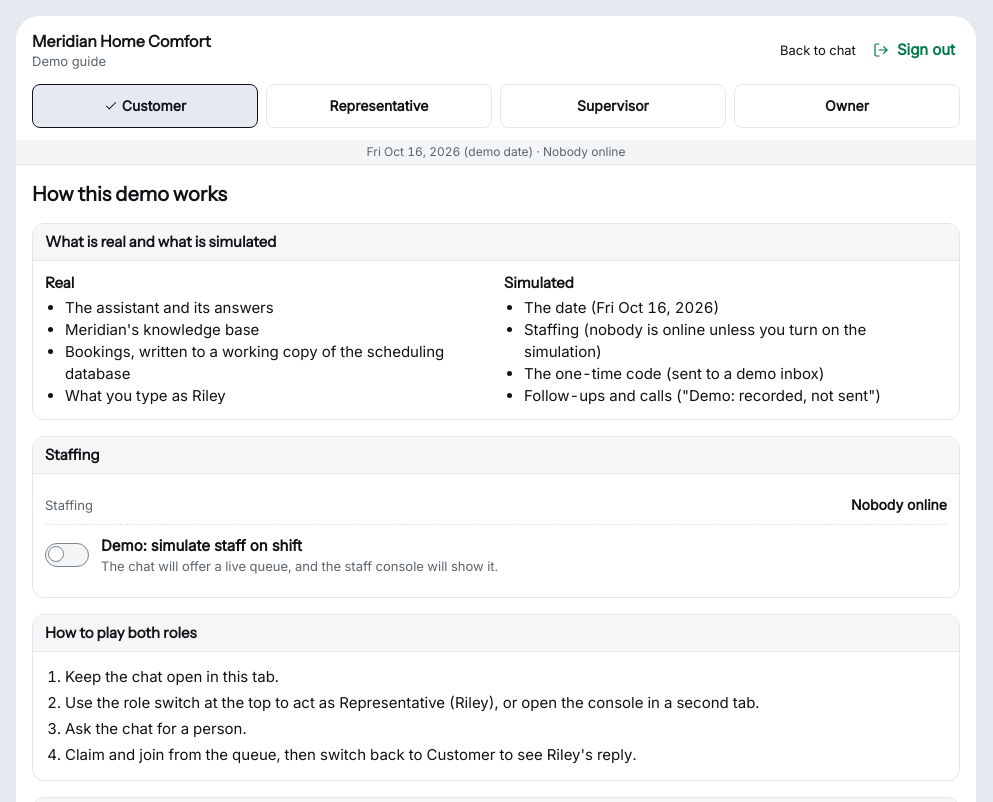
Test case: Scr03 demo guide › write error: exact line and the switch reverts
Click the switch labelled "Demo: simulate staff on shift": {"x": 272, "y": 555} [45,536,498,574]
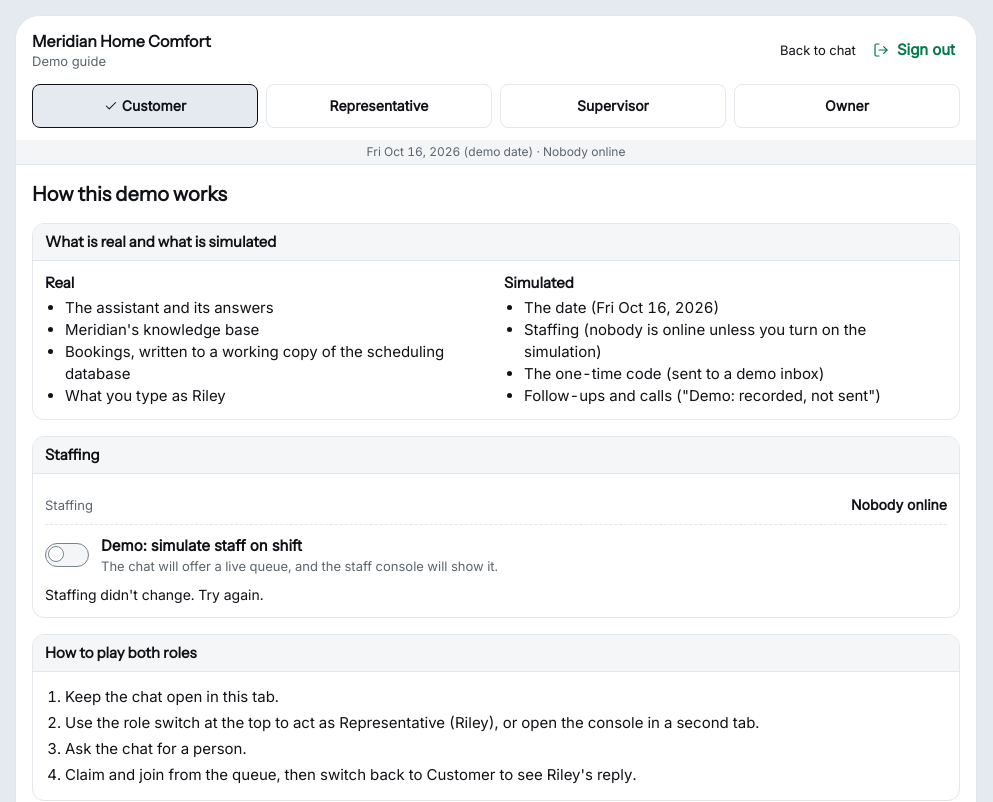
Now the text "Staffing didn't change. Try again." is shown, box [45,586,263,603]
